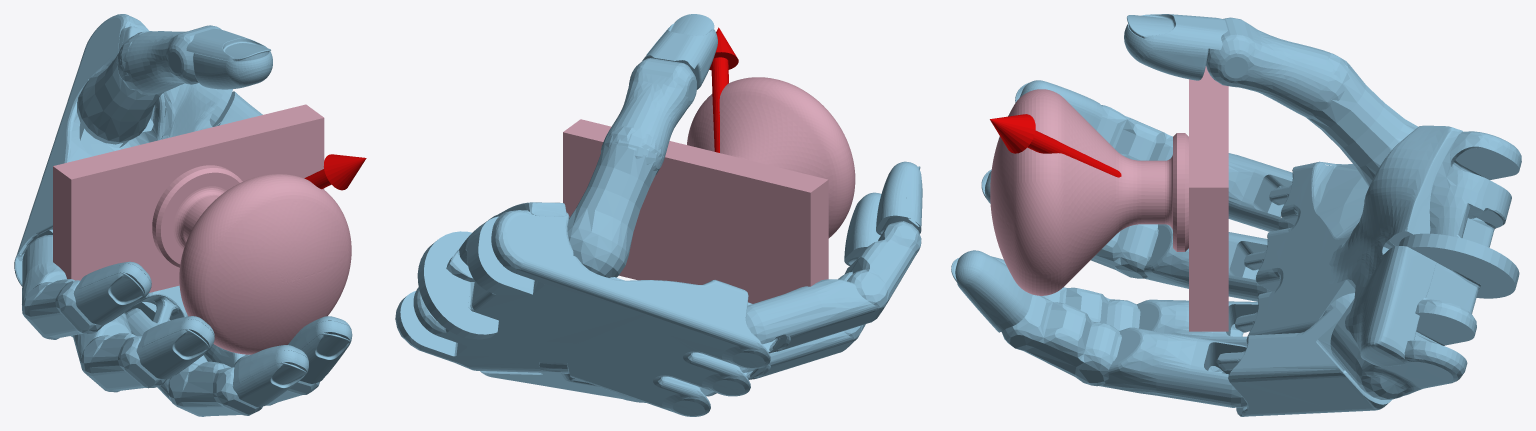
3 renders of one model, left to right at view 1: azimuth 30°, elevation 25°; view 2: azimuth 150°, elevation 25°; view 3: azimuth 270°, elevation 25°, orthographic. The views are drawn at different scales.
Visible parts, largest first — view 1: world, door_knob.stl; view 2: world, door_knob.stl; view 3: world, door_knob.stl.
Part boxes in pixels (box(x1,y1,x2,y2)): world: box(14, 14, 366, 416); door_knob.stl: box(53, 104, 351, 354); world: box(395, 14, 922, 416); door_knob.stl: box(563, 77, 855, 303); world: box(951, 14, 1521, 416); door_knob.stl: box(990, 66, 1228, 331).
Size of the model in its own units: 0.1488 by 0.1357 by 0.1794.
